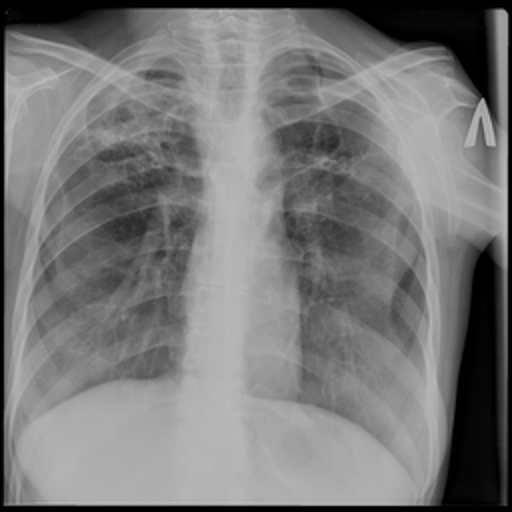TB: (85, 94, 194, 237), (297, 100, 369, 255)
